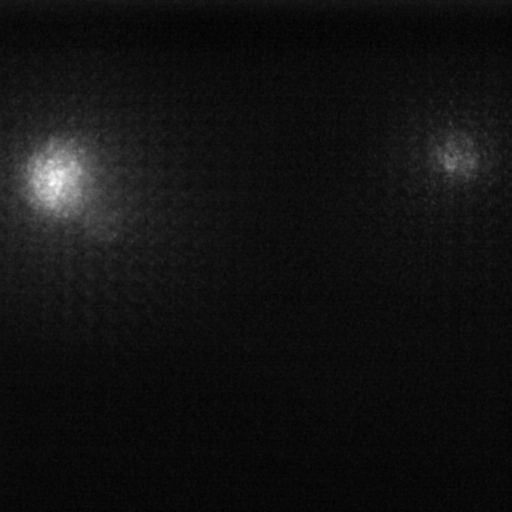lam3: (19, 138, 102, 217), (437, 142, 478, 176)
